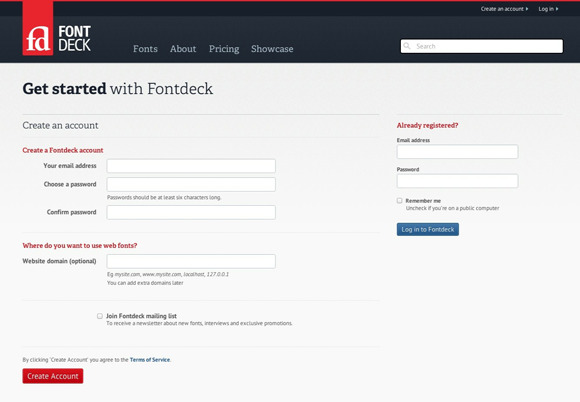_form_: (250, 67, 556, 369), (1, 100, 306, 402)
button: (22, 368, 84, 383), (397, 222, 460, 236)
checkbox: (96, 311, 104, 320), (396, 197, 403, 204)
checkbox_with_label: (395, 196, 501, 211)
field: (102, 204, 276, 220), (103, 253, 276, 269), (102, 177, 277, 192), (102, 158, 276, 173), (400, 39, 564, 53), (395, 171, 518, 188), (395, 143, 518, 159)
field_with_label: (23, 251, 278, 271), (48, 202, 278, 221), (42, 156, 277, 174), (43, 175, 278, 193), (394, 136, 519, 160), (393, 166, 521, 189)
radio_with_label: (94, 309, 178, 322)
